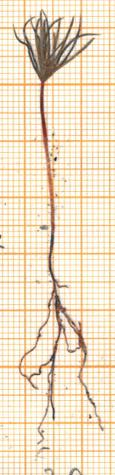flower: (9, 7, 102, 85)
root: (15, 229, 106, 449)
stem: (36, 87, 59, 228)
